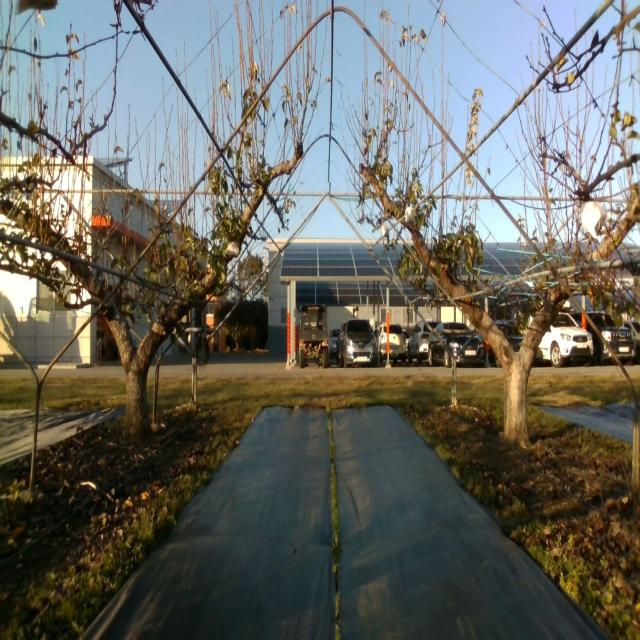pearbags: (575, 200, 607, 242)
